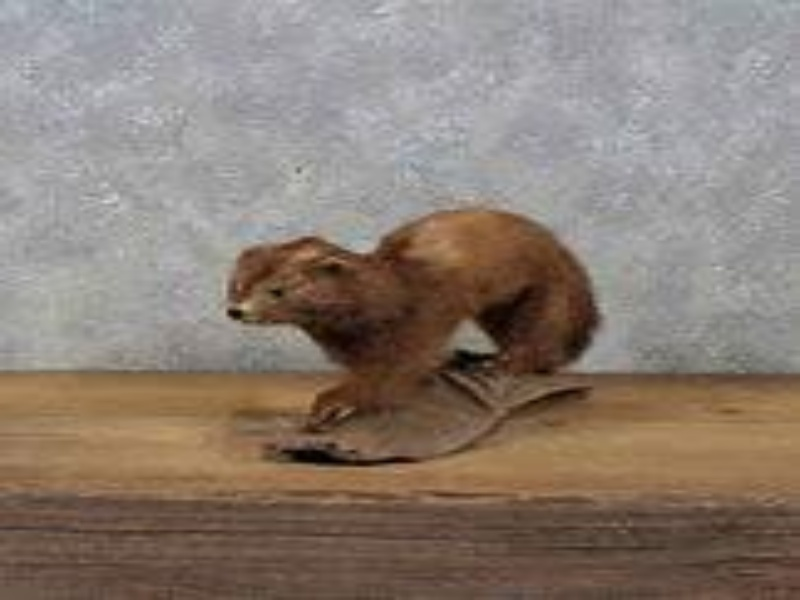minkish: (224, 206, 603, 423)
